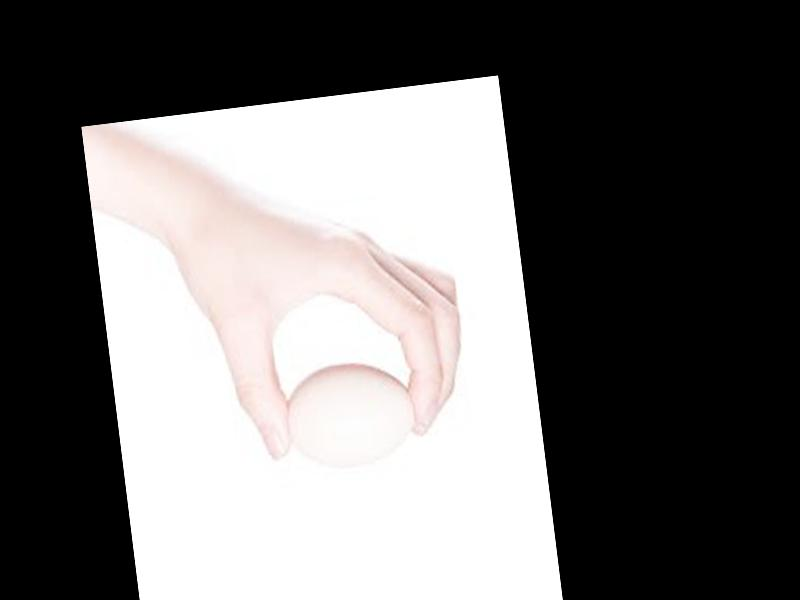Eggs: (280, 356, 421, 474)
